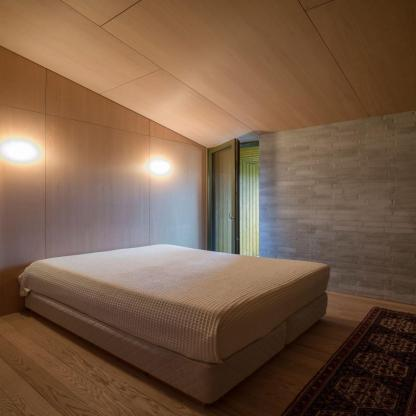other: (3, 129, 55, 175), (142, 154, 182, 184)
